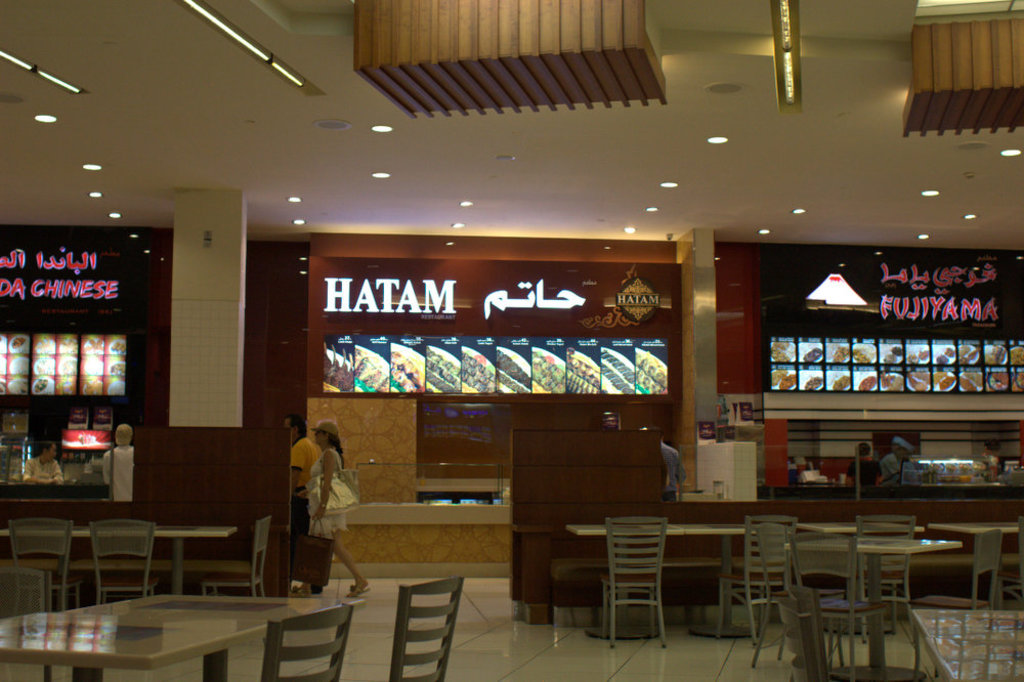Cabinetry: (711, 252, 1023, 491), (300, 328, 686, 508), (774, 474, 1023, 601), (516, 430, 667, 622), (0, 331, 163, 504)
